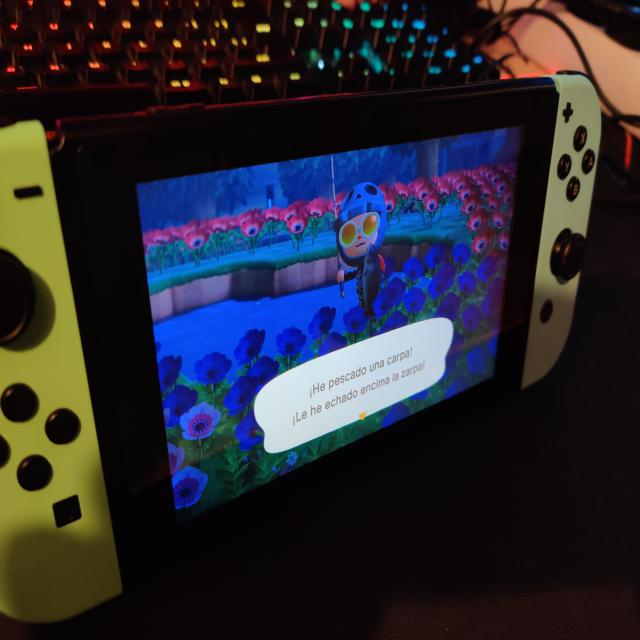text_bubble: (253, 317, 455, 455)
